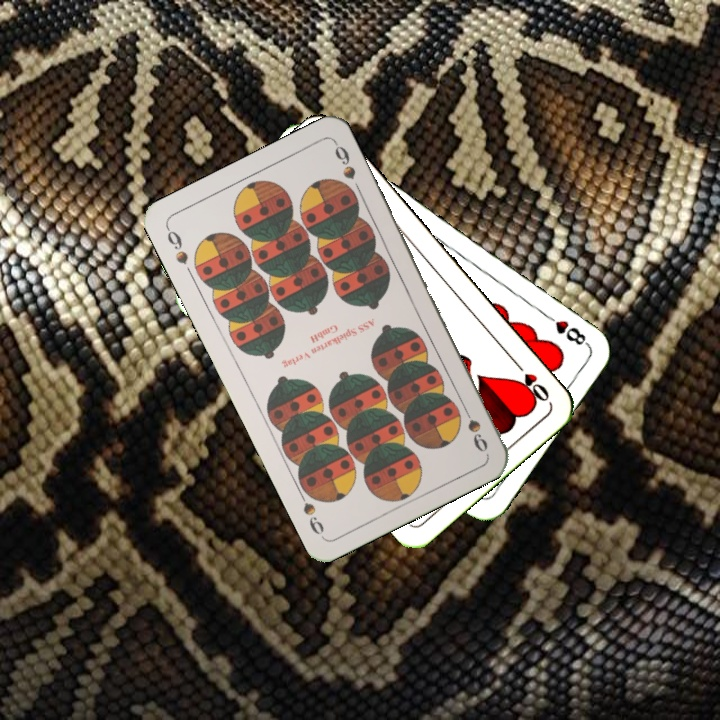H8: (540, 309, 592, 349)
HO: (509, 356, 552, 404)
S9: (457, 399, 491, 455), (162, 223, 191, 267)
